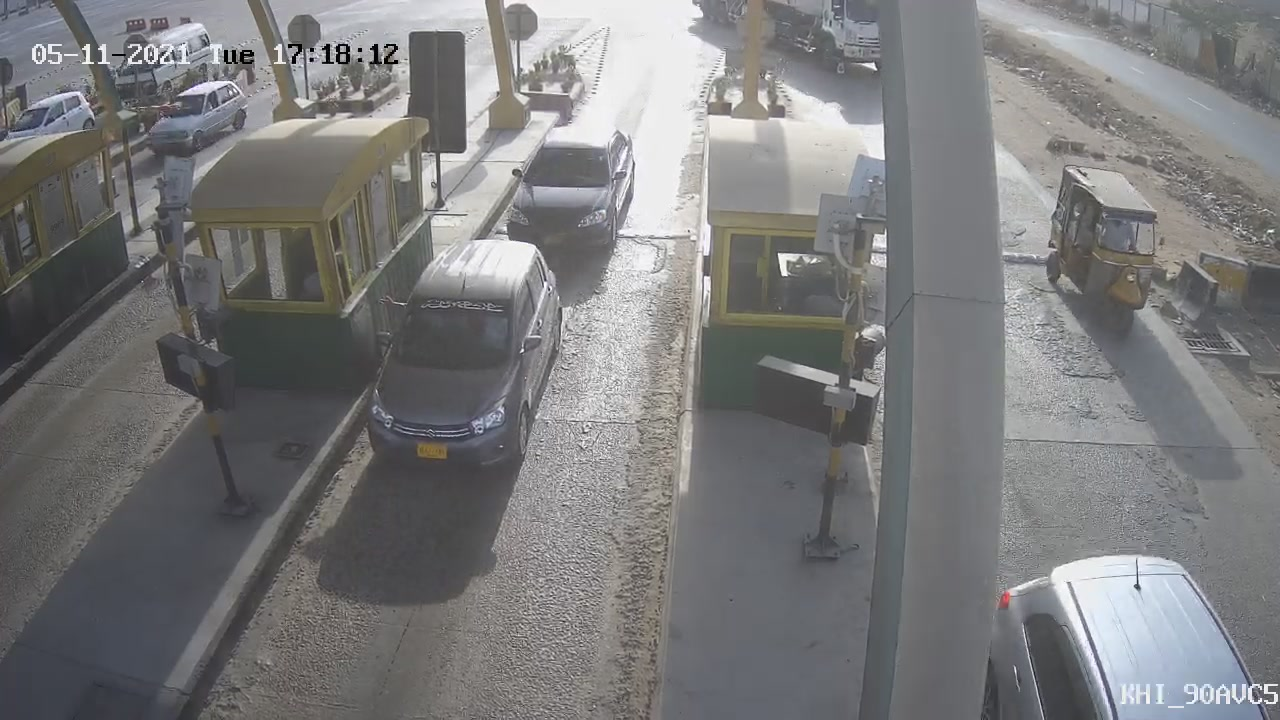F1: (338, 226, 586, 491), (487, 105, 650, 275)
